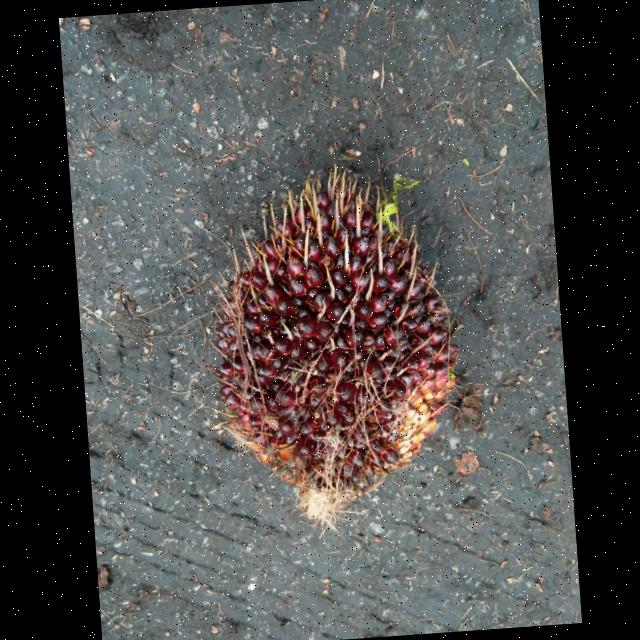Ripe: (215, 171, 459, 519)
